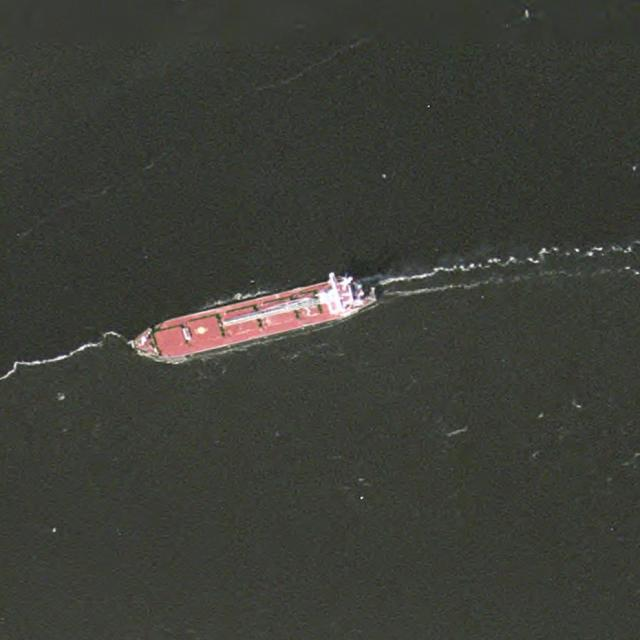Cargo: (126, 263, 381, 367)
